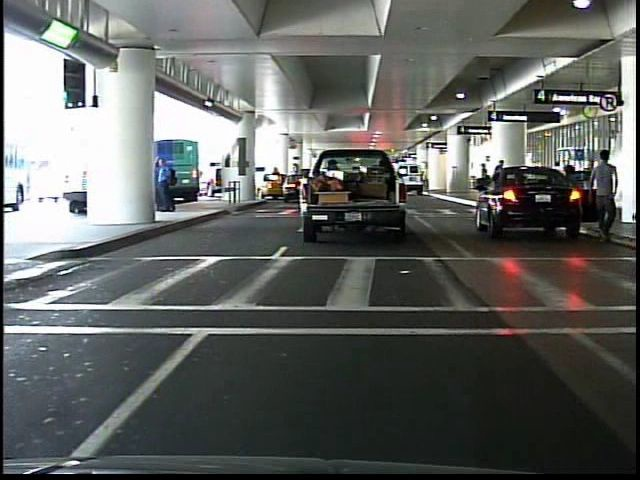person: (582, 147, 623, 244), (154, 149, 179, 216)
